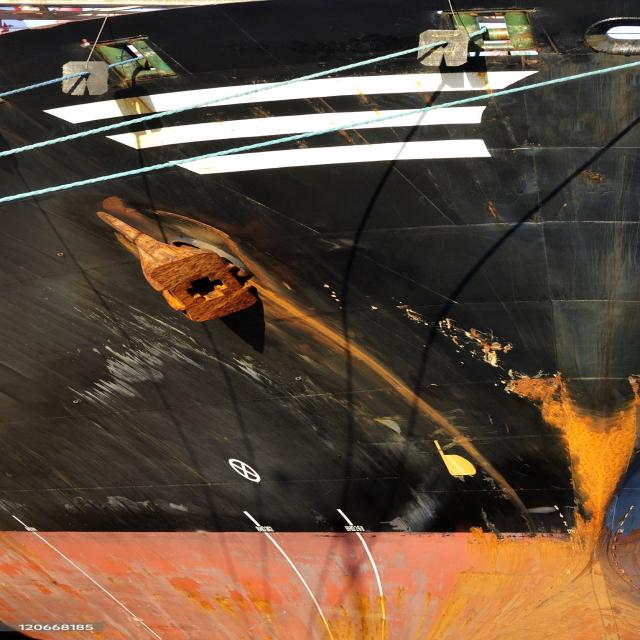Uniform Corrosion: (255, 283, 521, 504), (424, 530, 639, 640), (511, 374, 639, 540), (98, 212, 256, 322), (313, 591, 401, 640), (211, 592, 246, 617), (416, 592, 434, 640), (249, 588, 272, 615), (392, 586, 409, 608), (470, 527, 486, 541), (488, 533, 494, 539)
